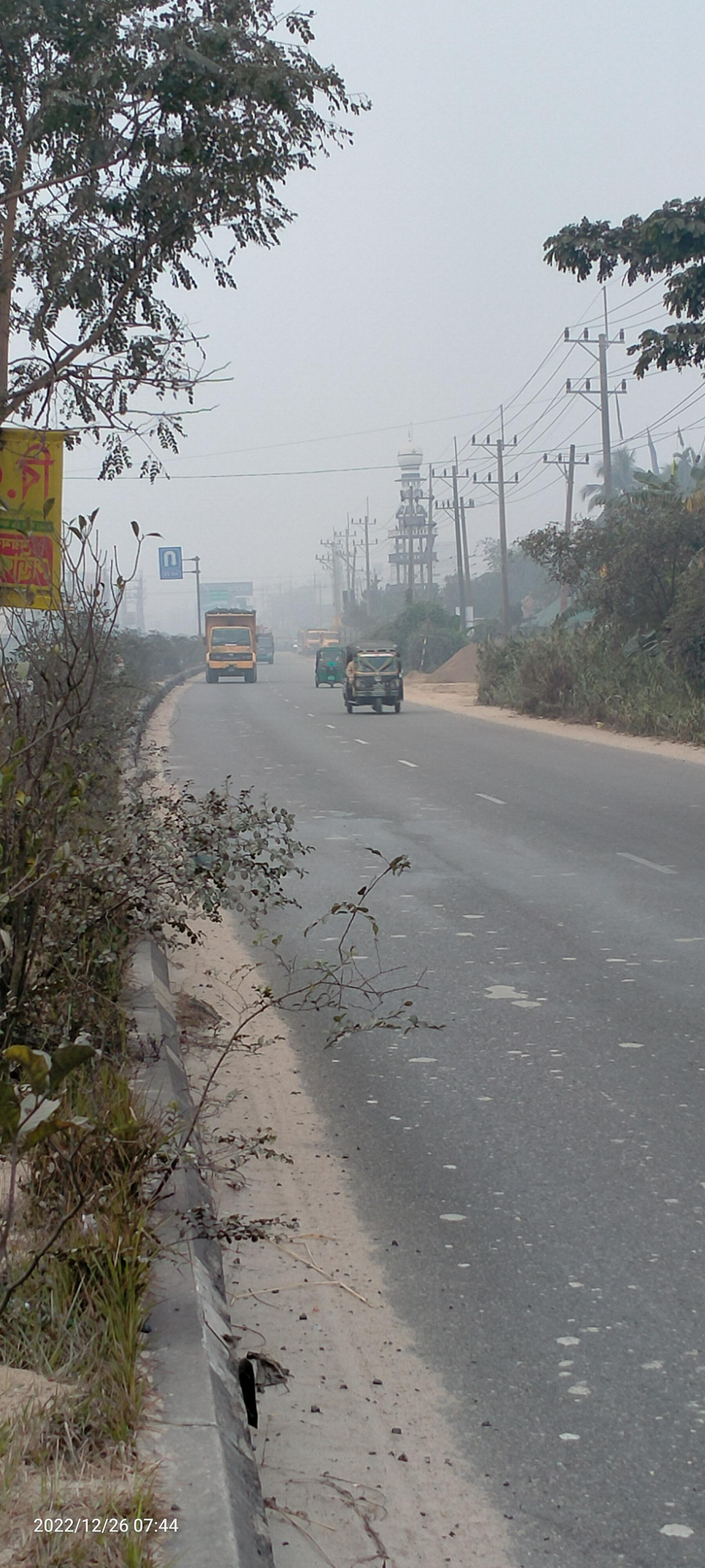Truck: (201, 603, 261, 689), (254, 624, 279, 670)
